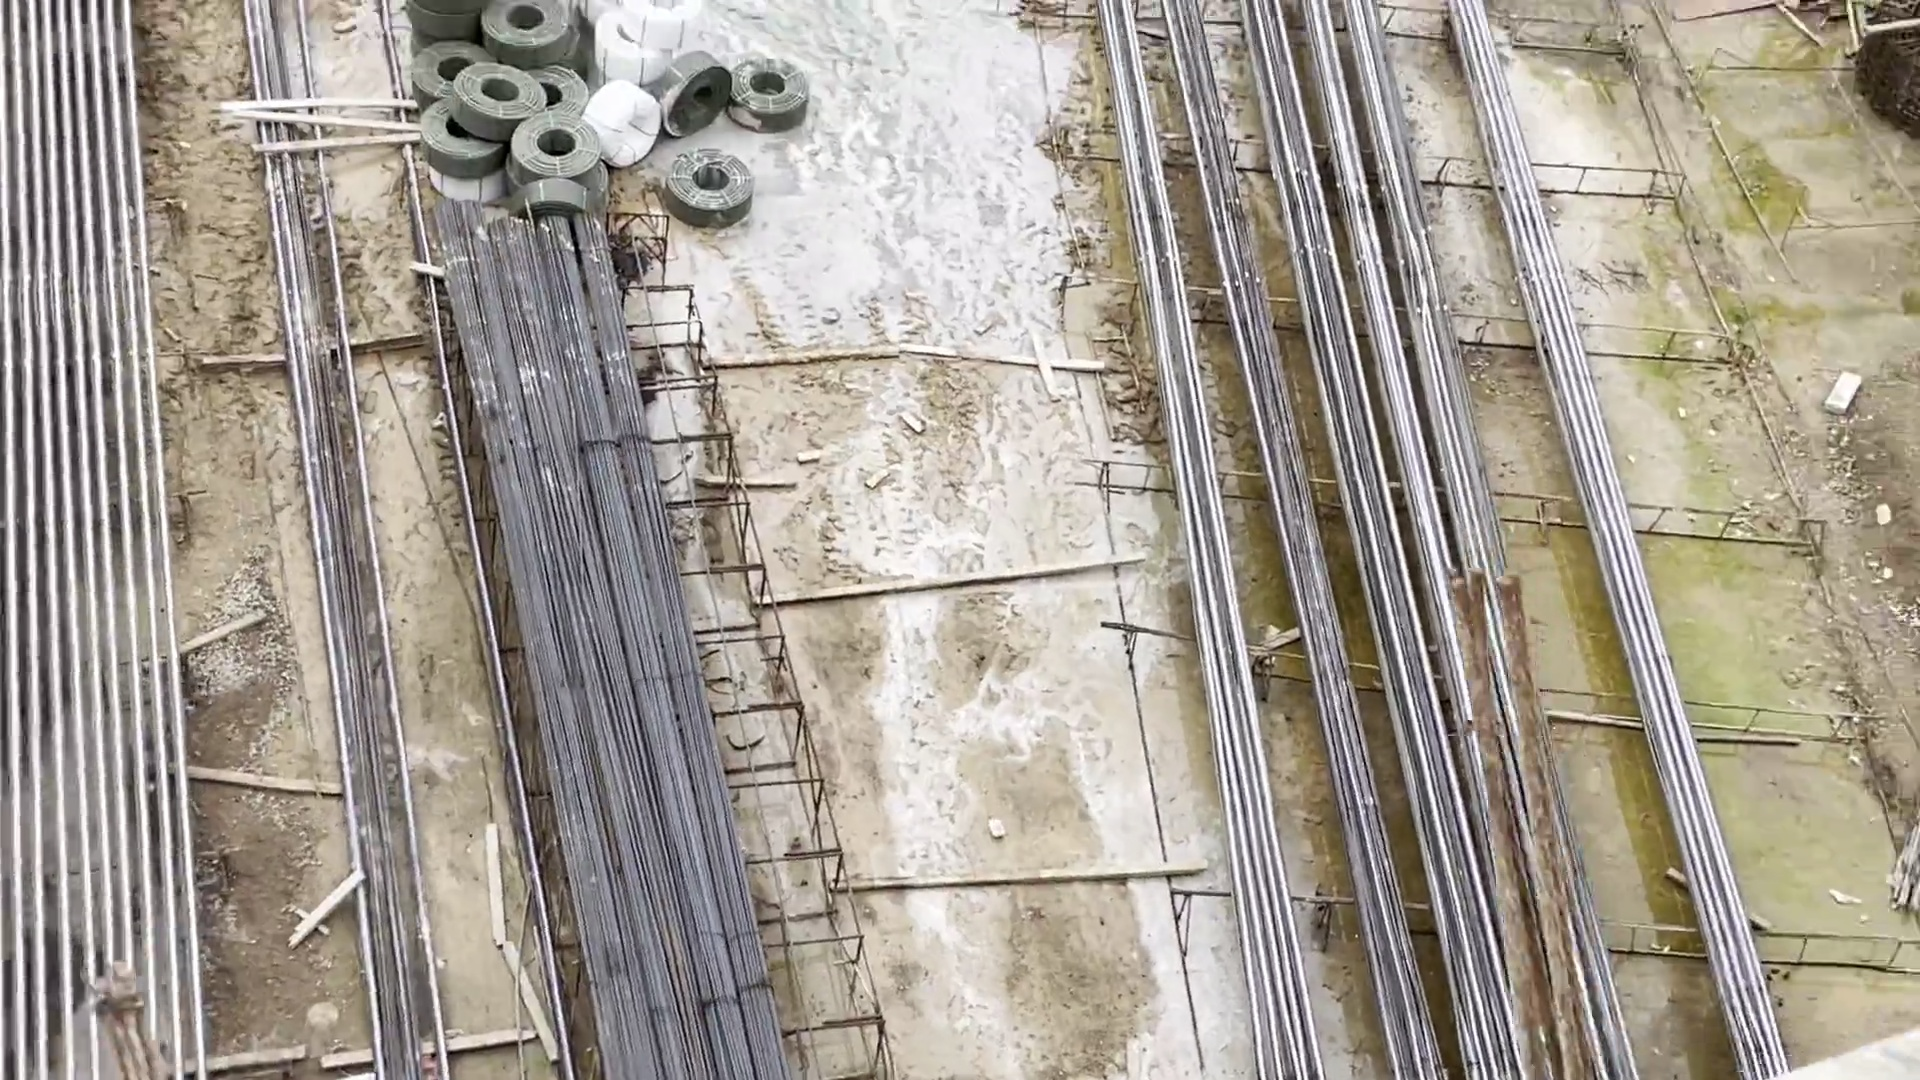rebar: (1127, 1, 1567, 1080), (476, 206, 757, 1080)
